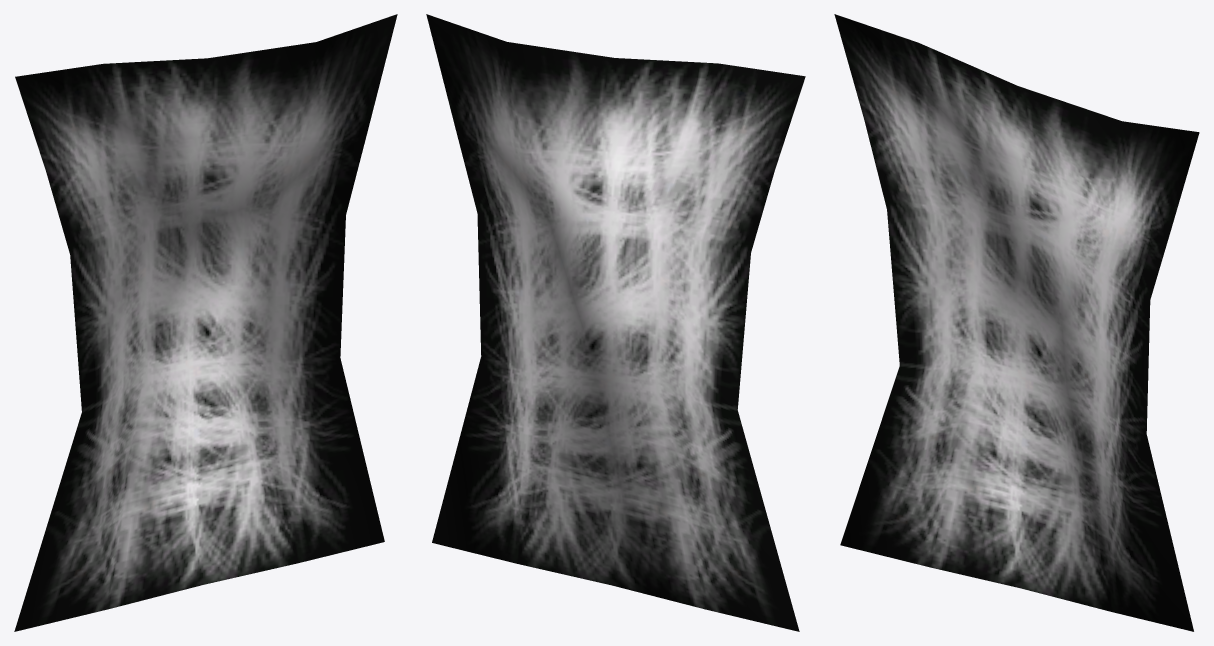
Rendered from INST_SWORDLIGHT_CLIMBWEB.fbx.
3 renders of one model, left to right at view 1: azimuth 30°, elevation 25°; view 2: azimuth 150°, elevation 25°; view 3: azimuth 330°, elevation 25°, orthographic. The views are drawn at different scales.
Visible parts, largest first — view 1: INST_SWORDLIGHT_CLIMBWEB; view 2: INST_SWORDLIGHT_CLIMBWEB; view 3: INST_SWORDLIGHT_CLIMBWEB.
Part boxes in pixels (left/top/right/bottom): INST_SWORDLIGHT_CLIMBWEB: left=14, top=14, right=397, bottom=631; INST_SWORDLIGHT_CLIMBWEB: left=426, top=14, right=805, bottom=631; INST_SWORDLIGHT_CLIMBWEB: left=834, top=14, right=1199, bottom=631.
Size of the model in its own units: 20369 by 28436 by 1075.
1 material, 1 textured.
